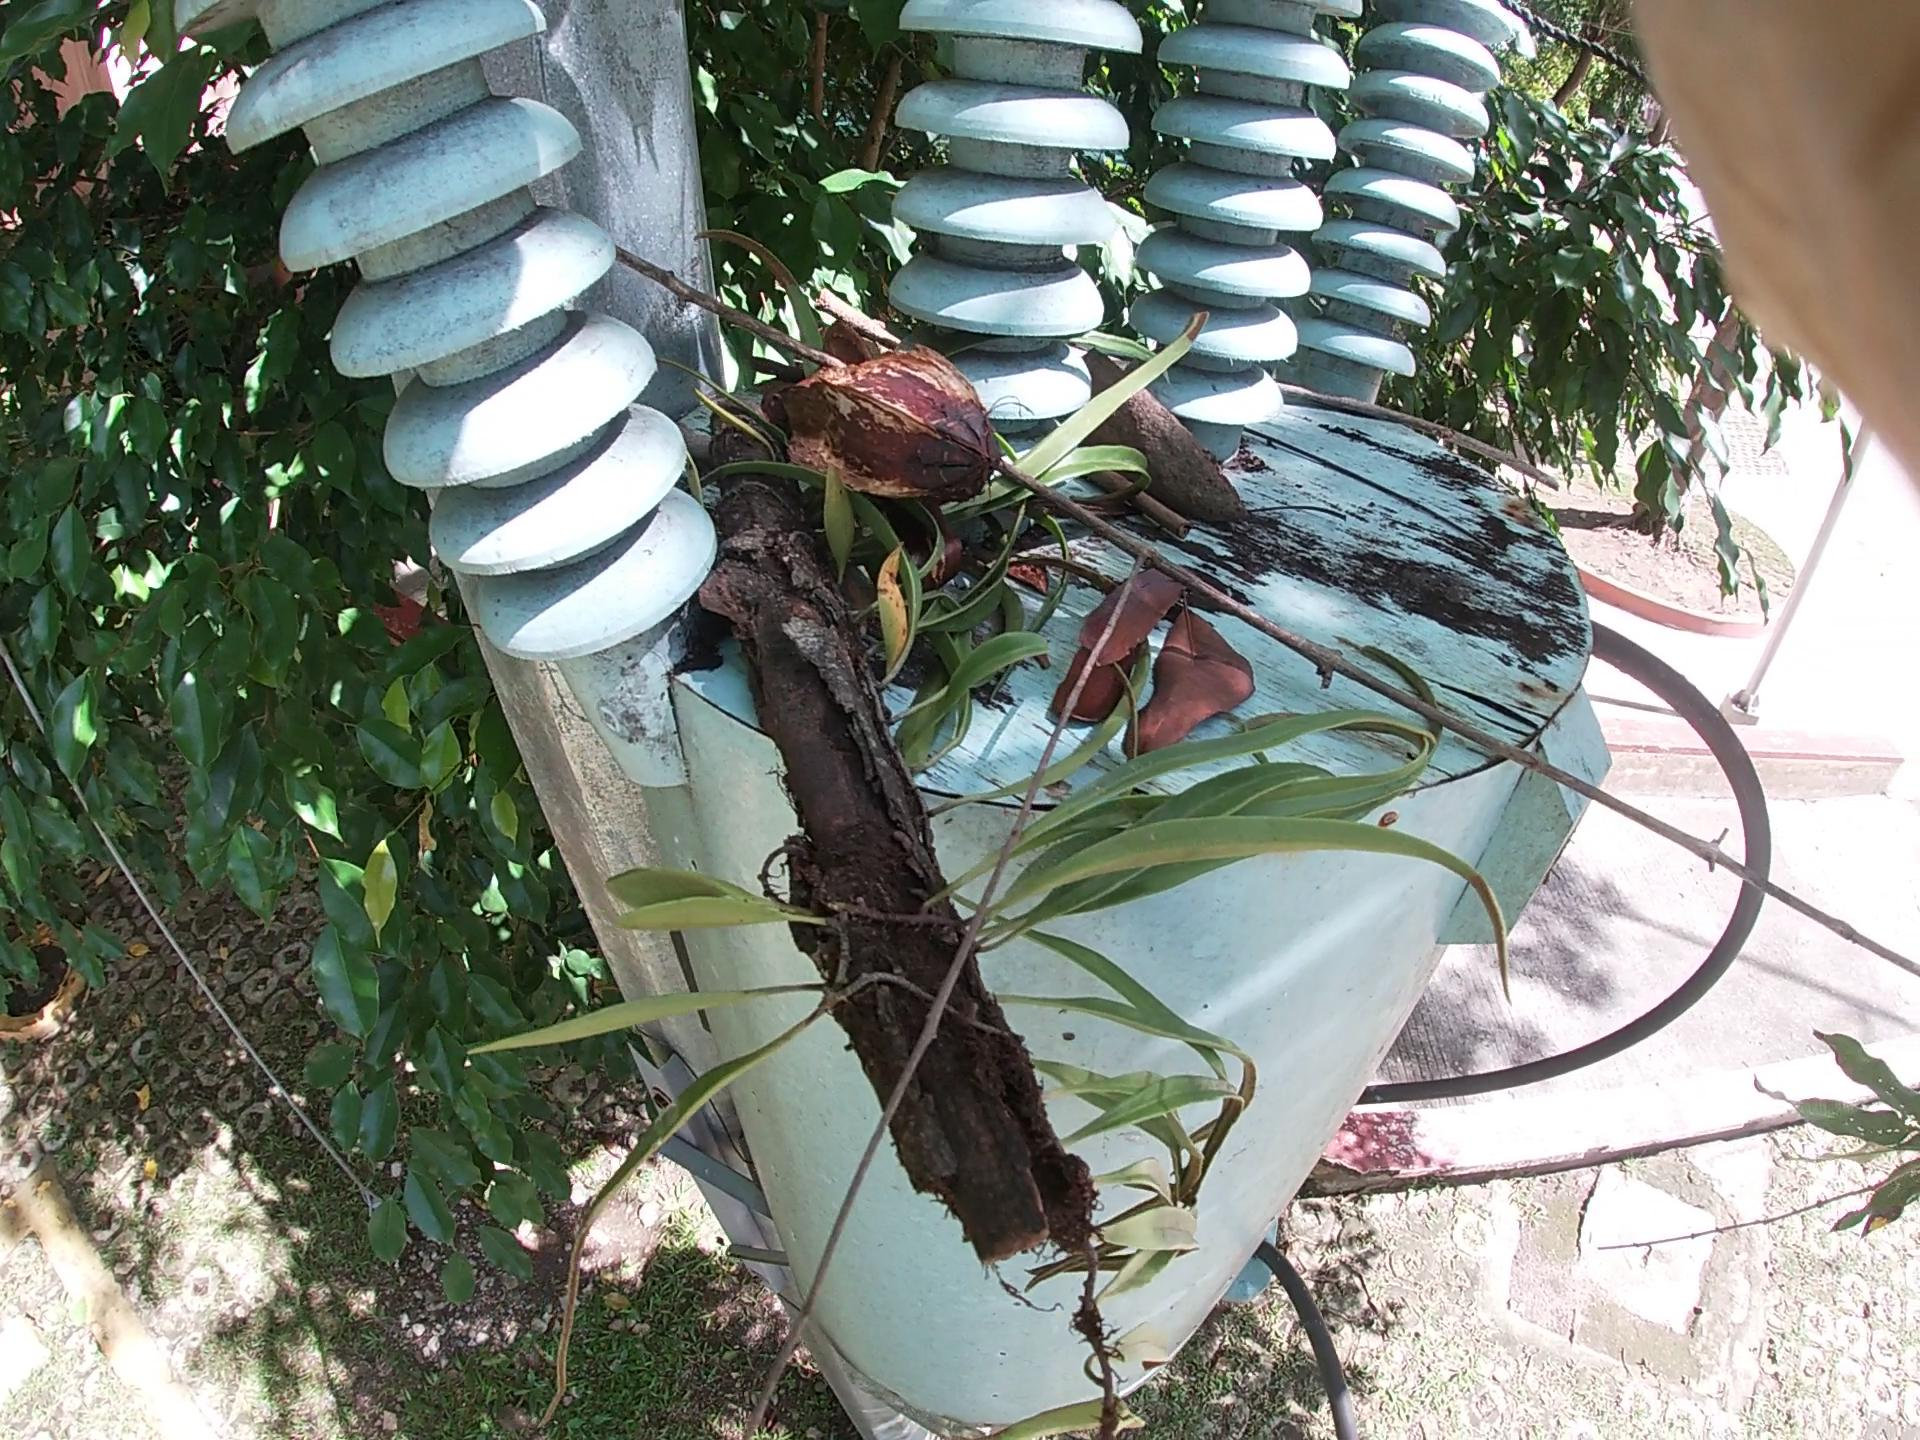branch with leaves: (711, 284, 1339, 1204)
leaf: (989, 540, 1212, 771)
mahogany fruit: (735, 303, 1042, 532), (1070, 315, 1271, 593)
tree branch: (909, 390, 1621, 830), (1293, 303, 1599, 523), (1030, 362, 1194, 641)
